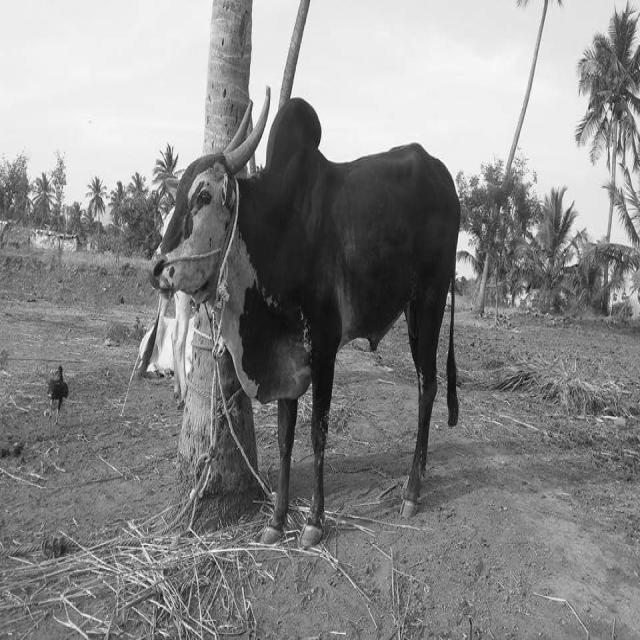Cow: (147, 86, 462, 548)
